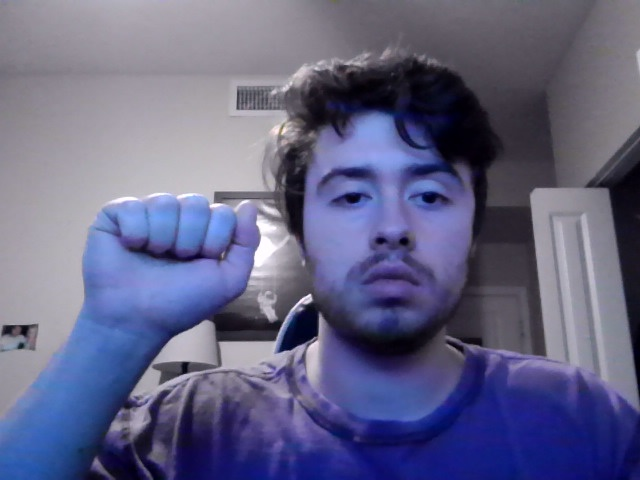a: (80, 192, 262, 340)
